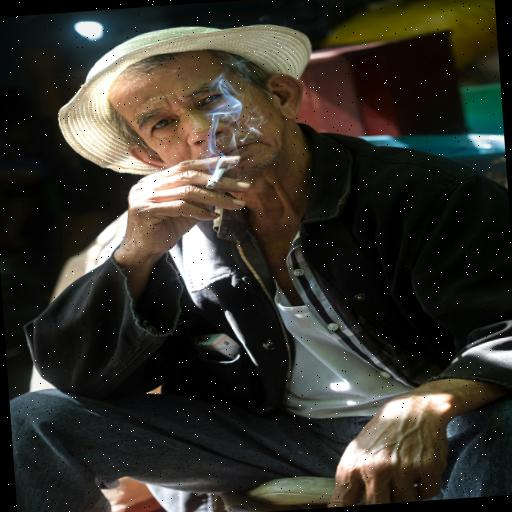terdeteksi merokok: (155, 96, 272, 214)
